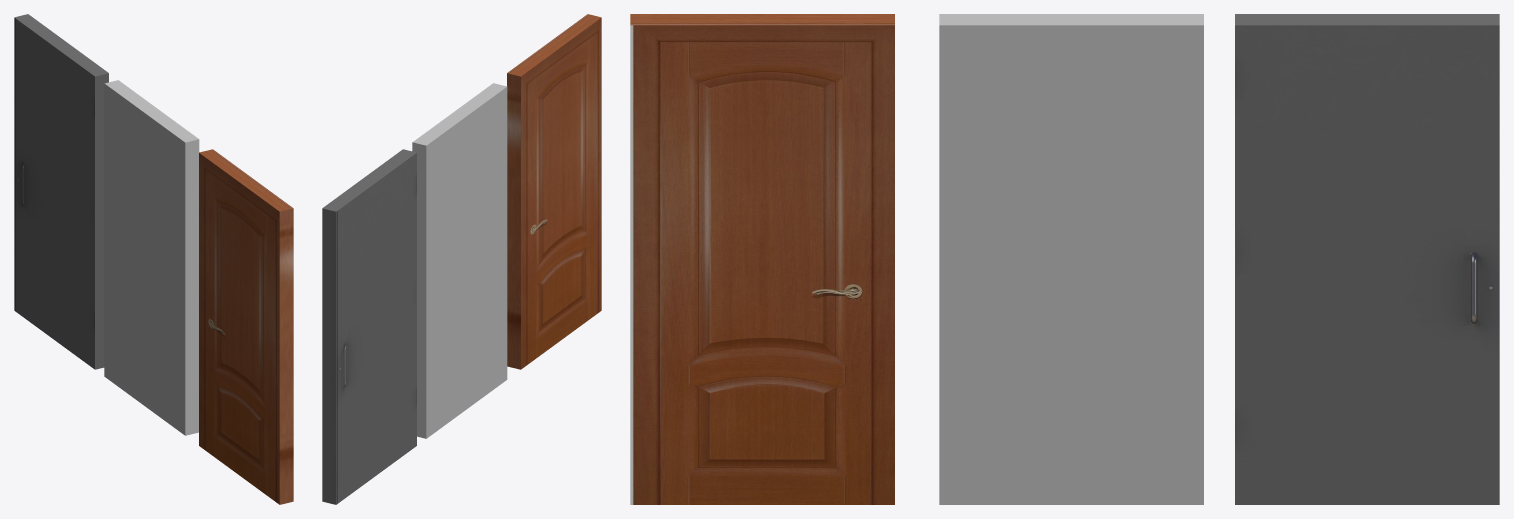
The model's file is dors222.fbx.
3 renders of one model, left to right at view 1: azimuth 30°, elevation 25°; view 2: azimuth 150°, elevation 25°; view 3: azimuth 270°, elevation 25°, orthographic. The views are drawn at different scales.
Parts seen in each view (by area): view 1: Cube, Cube.002, Cube.001; view 2: Cube.001, Cube.002, Cube; view 3: Cube, Cube.001, Cube.002.
Boxes of the visible parts, x1,y1,x2,y2 form: Cube: (104,80,199,435); Cube.002: (199,149,293,504); Cube.001: (14,14,108,369); Cube.001: (322,149,416,504); Cube.002: (507,14,601,369); Cube: (412,83,507,438); Cube: (939,14,1203,504); Cube.001: (1235,14,1499,504); Cube.002: (630,14,894,504).
Size of the model in its own units: 20 by 400 by 657.
